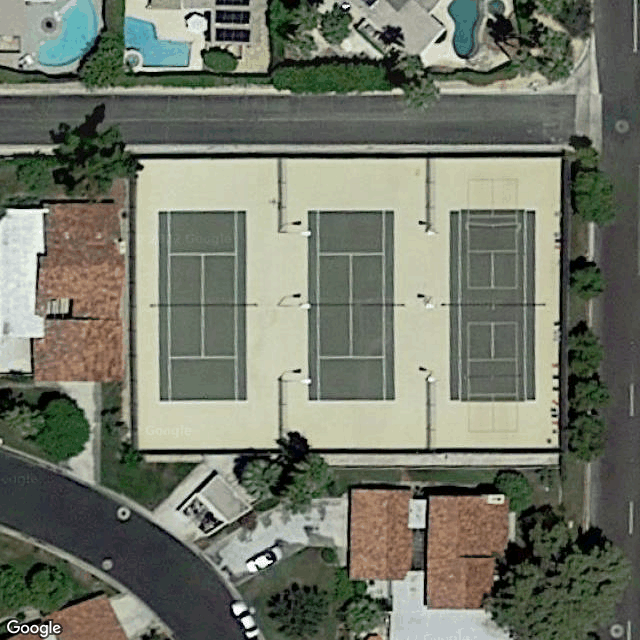Court: (155, 208, 251, 403), (303, 207, 398, 403), (444, 209, 538, 402)
